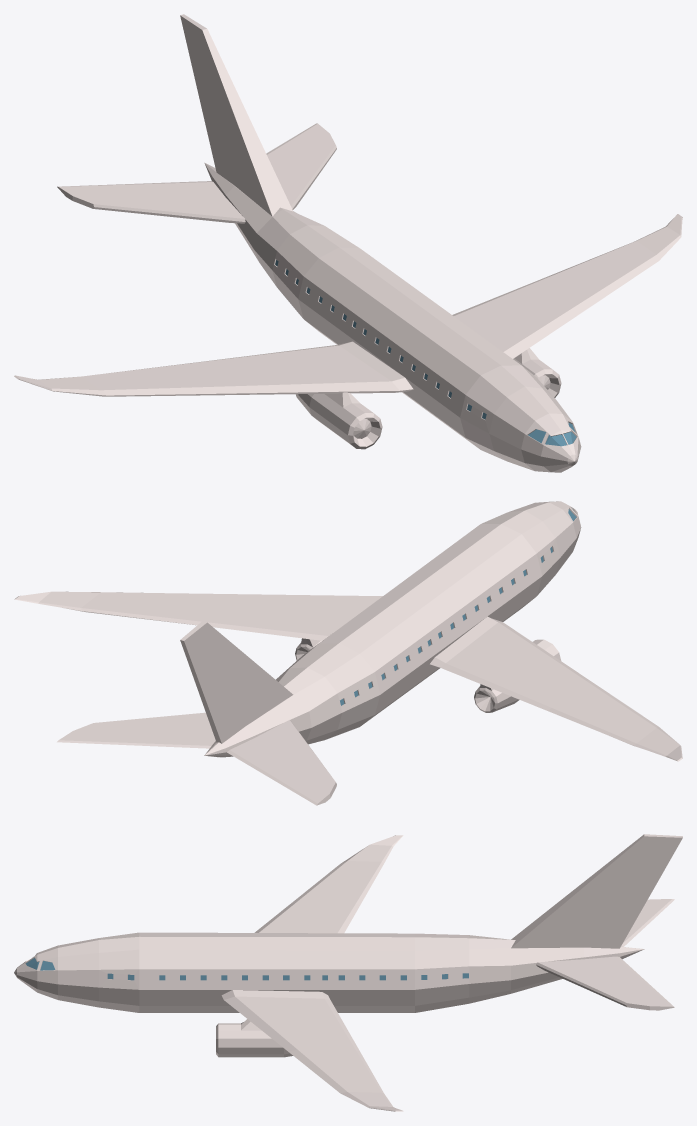
File: airplane.fbx
3 renders of one model, top to bottom at view 1: azimuth 30°, elevation 25°; view 2: azimuth 150°, elevation 25°; view 3: azimuth 270°, elevation 25°, orthographic. The views are drawn at different scales.
Parts seen in each view (by area): view 1: airplane; view 2: airplane; view 3: airplane.
Part boxes in pixels (x1,y1,x2,y2): airplane: (14, 14, 682, 472); airplane: (14, 501, 682, 805); airplane: (14, 834, 682, 1111).
Size of the model in its own units: 35.44 by 10.96 by 36.25.
